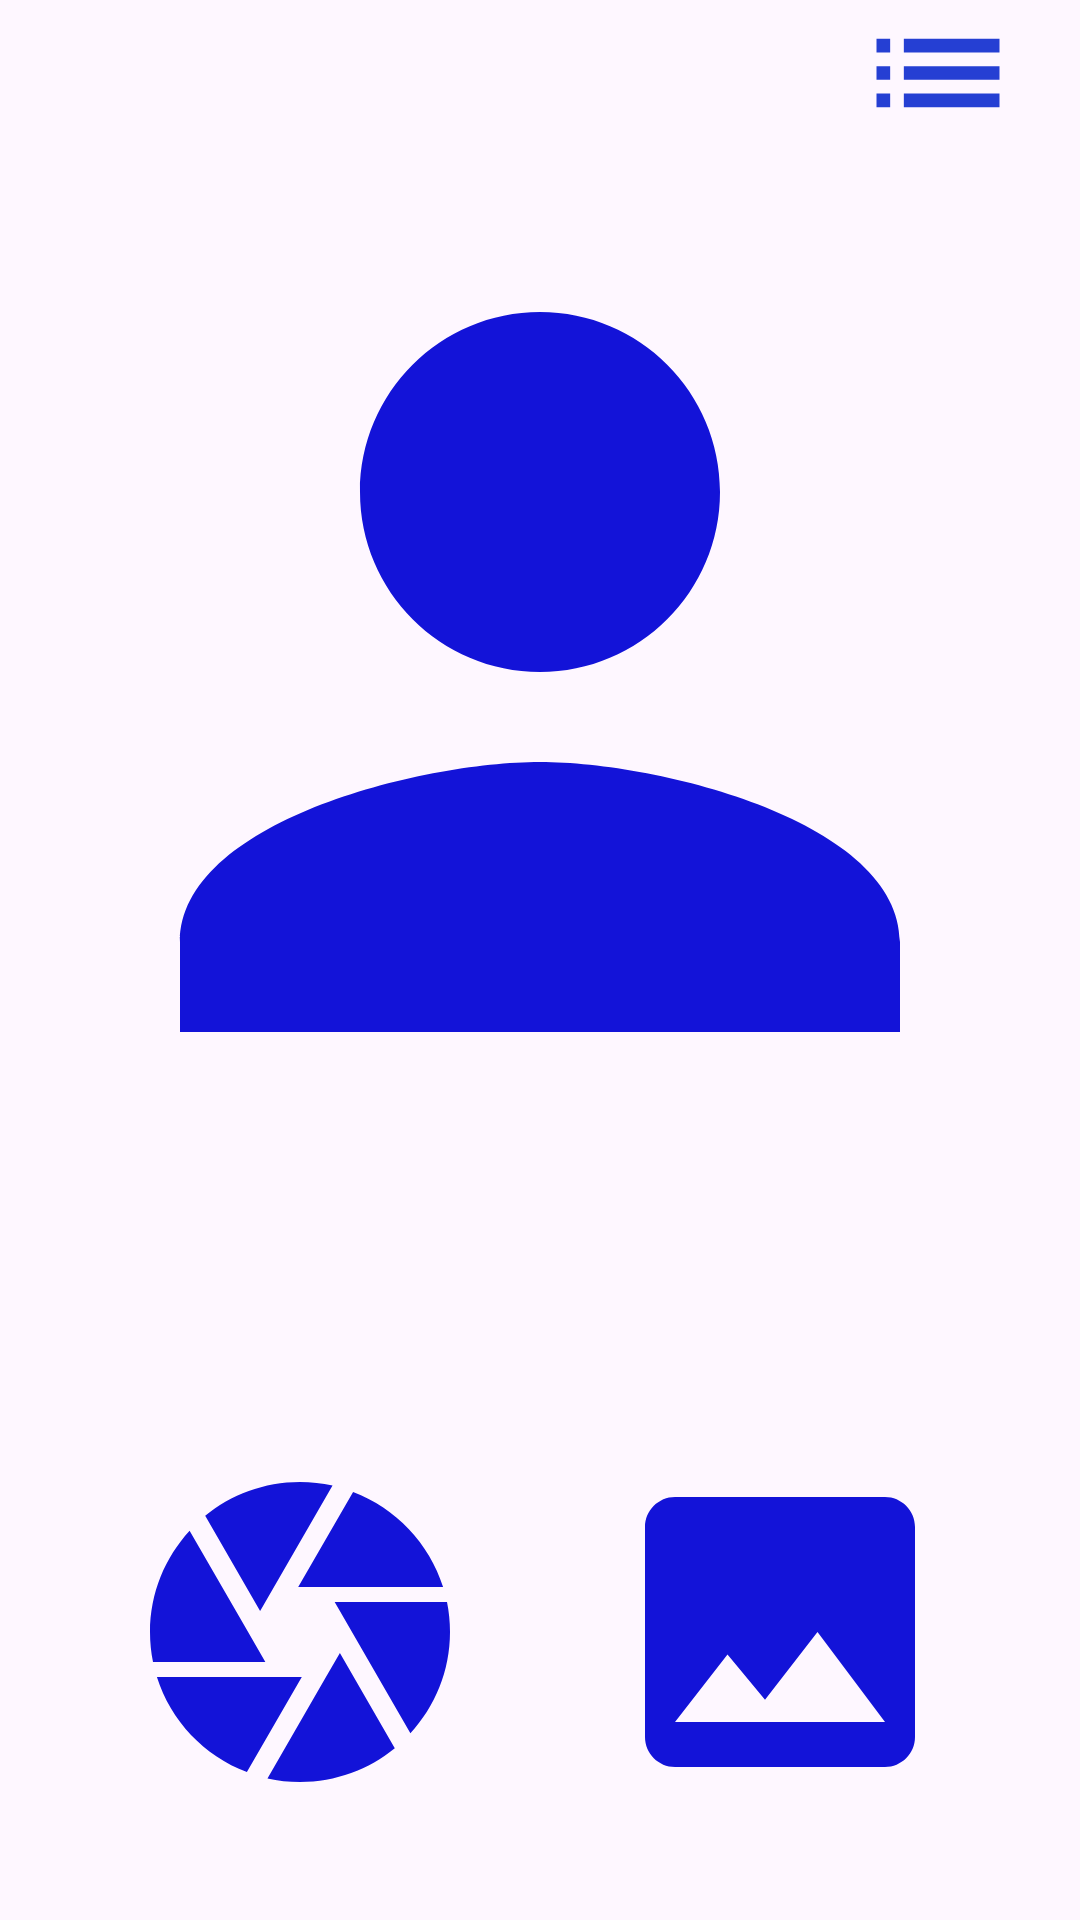

Point at icon controls on the screen. Image size 1080 x 1920, points as point (x, y).
camera: point (300, 1632)
insert photo: point (780, 1632)
Register List: point (938, 73)
